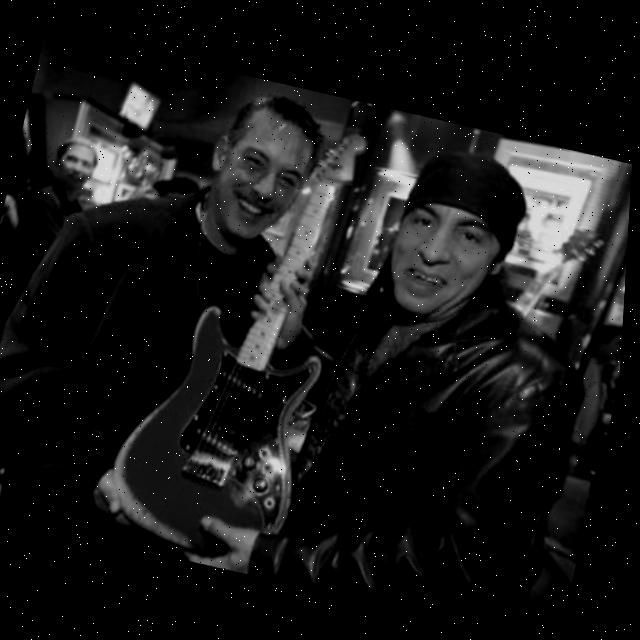face: (374, 168, 519, 336), (200, 92, 331, 255), (47, 132, 111, 202)
